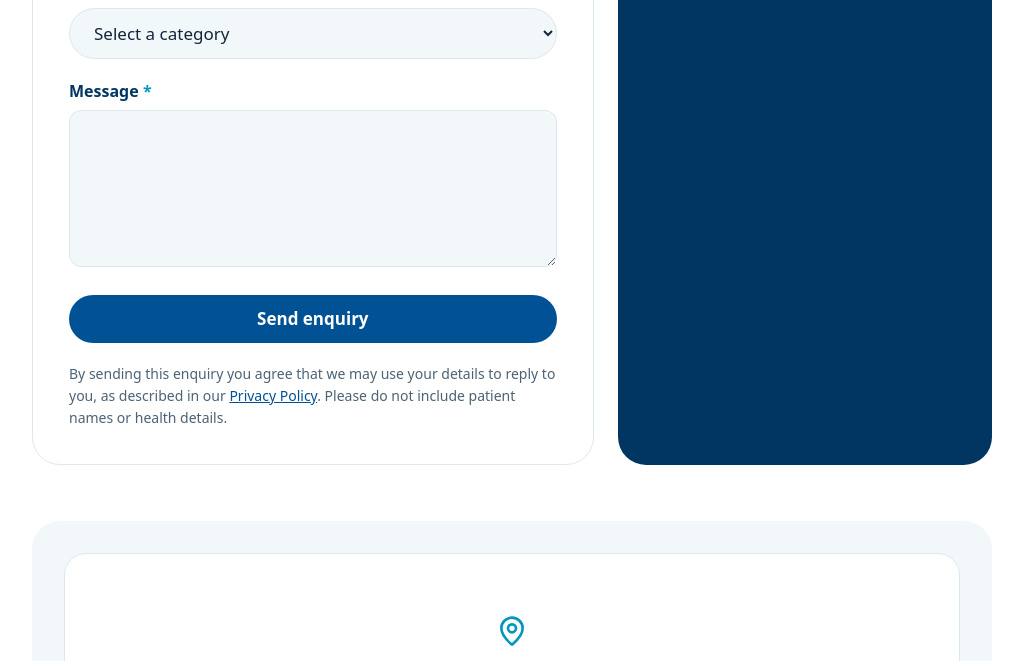
Test case: Contact form › shows field errors and focuses the first invalid field
This screenshot has width=1024, height=661.
(page scrolled)
Click the button "Send enquiry". click: click(313, 319)
box: [69, 295, 557, 343]
(page scrolled)
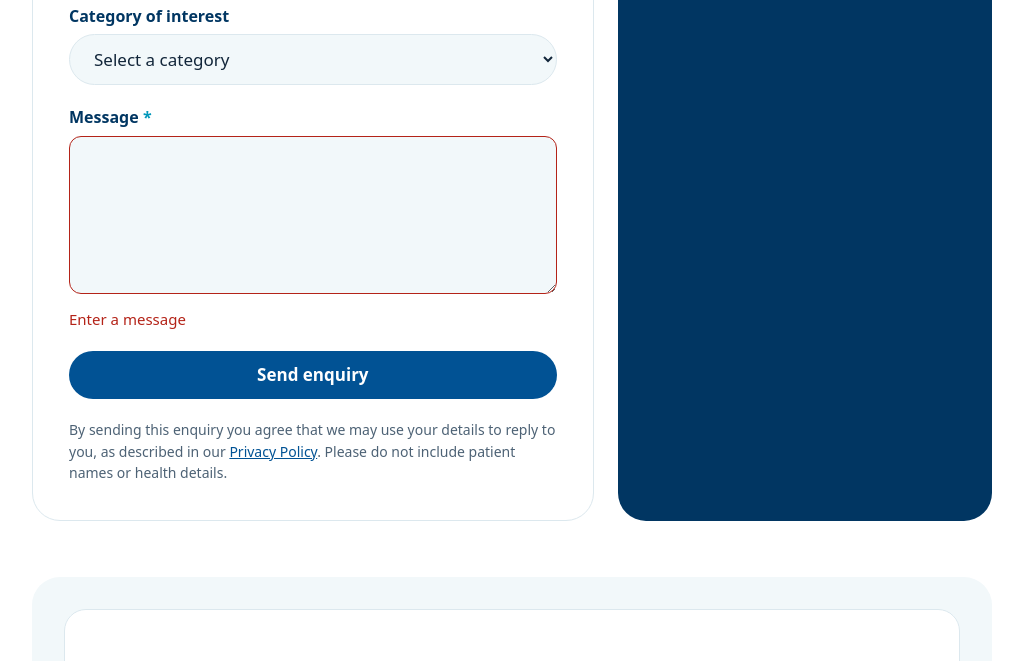
Expected: the text "Enter a message" is shown, [69, 309, 186, 329]
